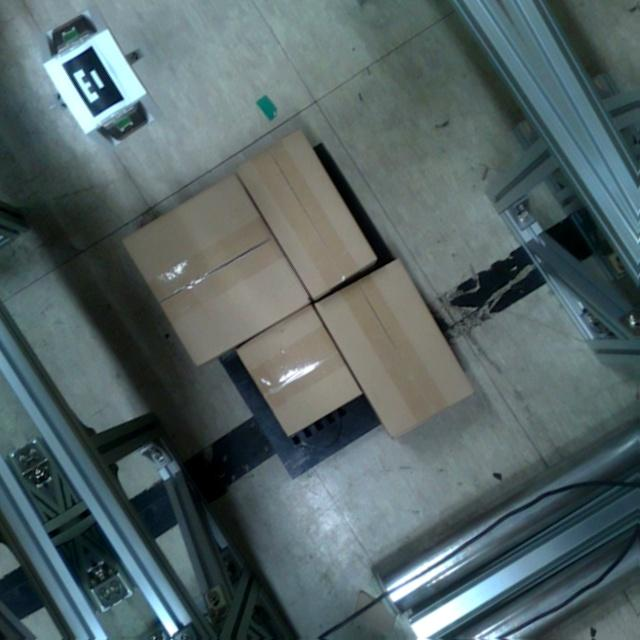box: (116, 167, 320, 375), (309, 252, 486, 448), (230, 124, 386, 306), (230, 300, 371, 444)
